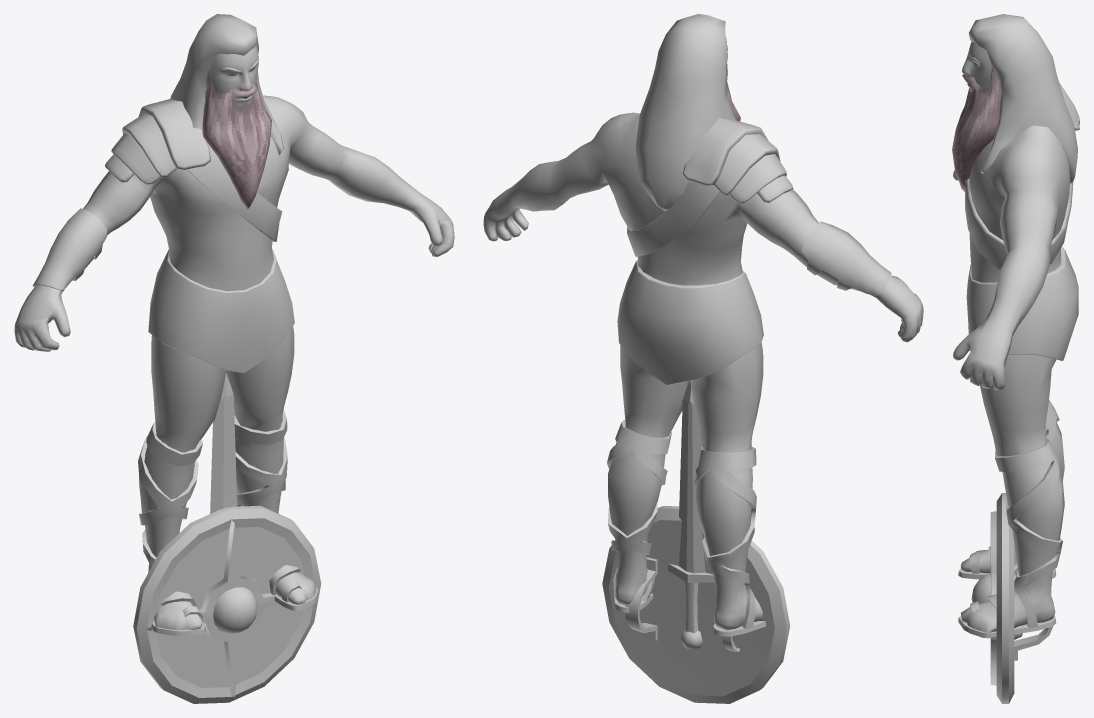
The model's file is char.obj.
The picture shows the model from 3 angles, left to right: view 1: azimuth 30°, elevation 25°; view 2: azimuth 150°, elevation 25°; view 3: azimuth 270°, elevation 25°; orthographic projection.
Parts seen in each view (by area): view 1: Beard; view 2: Beard; view 3: Beard.
Boxes of the visible parts, <box> form: Beard: <box>14,14,454,703</box>; Beard: <box>483,14,923,703</box>; Beard: <box>952,14,1079,703</box>.
Size of the model in its own units: 1.4 by 2.11 by 0.3619.
